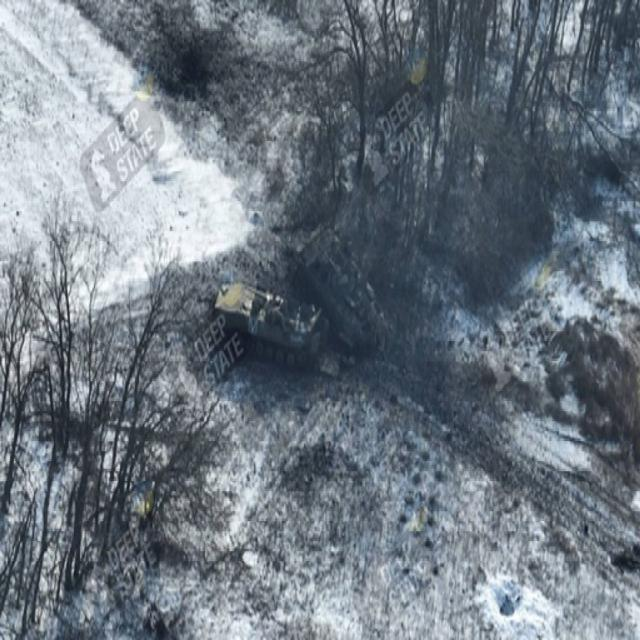APC-IFV: (289, 211, 386, 353), (209, 271, 316, 376)
